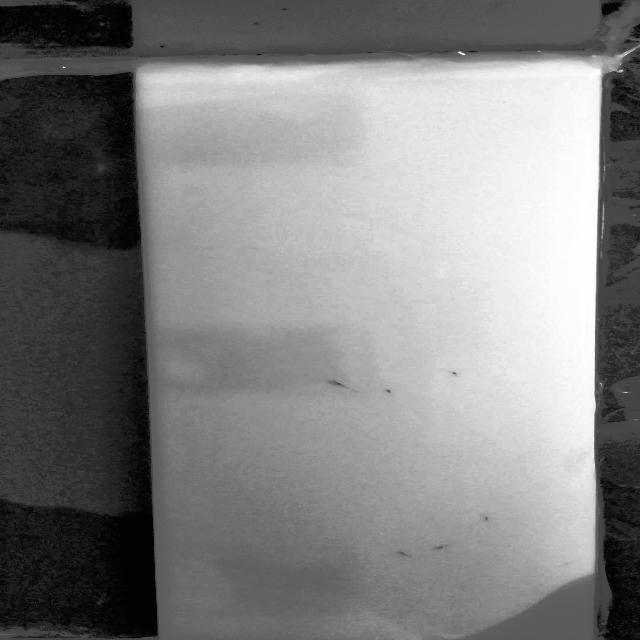shrimp: (333, 378, 362, 392), (390, 549, 416, 558), (430, 542, 450, 552), (447, 368, 466, 376), (384, 388, 398, 398), (481, 515, 494, 525)
